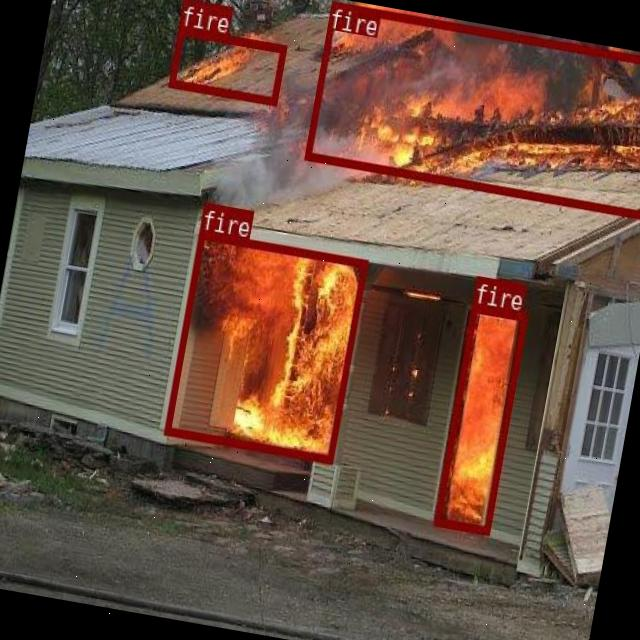fire: (304, 0, 640, 219), (163, 231, 367, 464), (432, 303, 526, 533), (167, 25, 286, 104)
